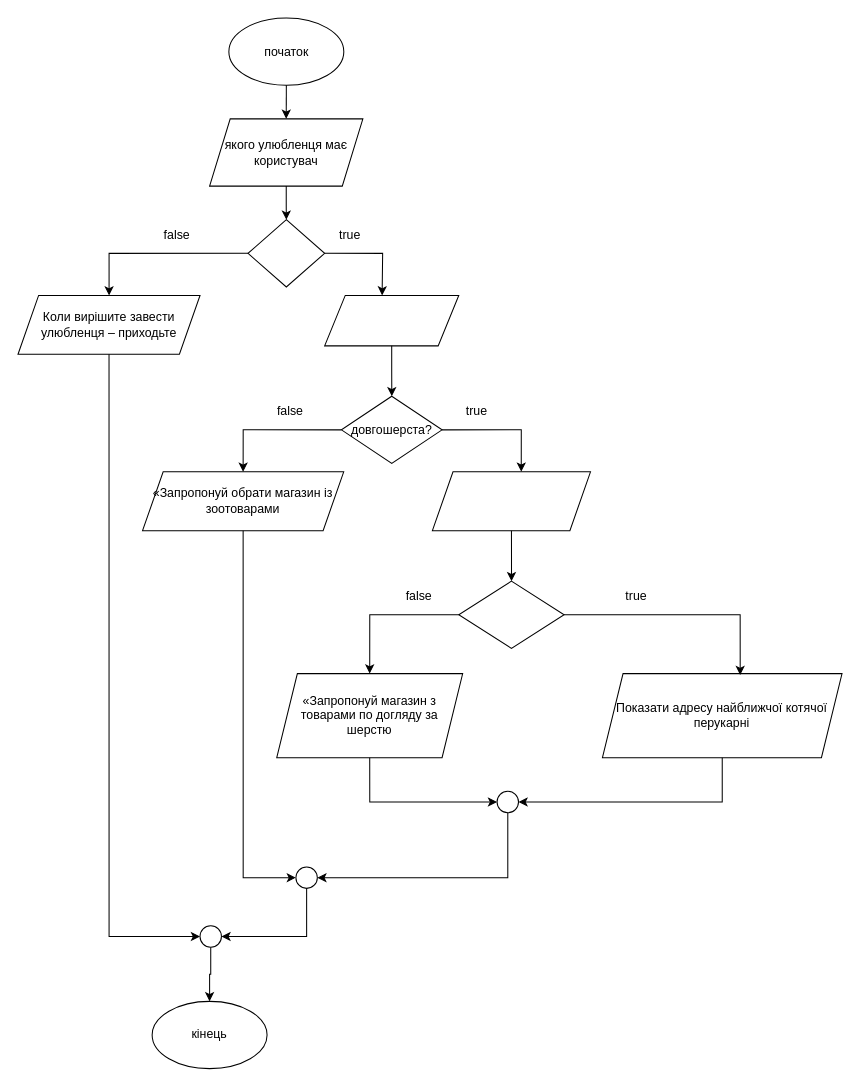
Some shapes in this 860 by 1087 pixel diagram are drawn without their labels. Here are the shapes that lost their labels. From the top down, the centre of each, then its label:
At point 286,253: "кіт?".
At point 391,320: "короткошерста чи довгошерста?".
At point 510,501: "«ви бажаєте отримати контакти найближчого грумера?".
At point 511,614: "так?".
